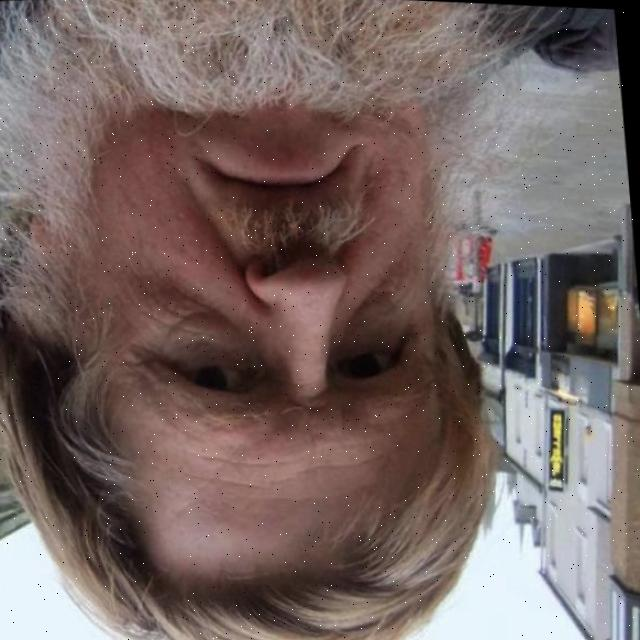puffy_eyes: (163, 312, 244, 350)
